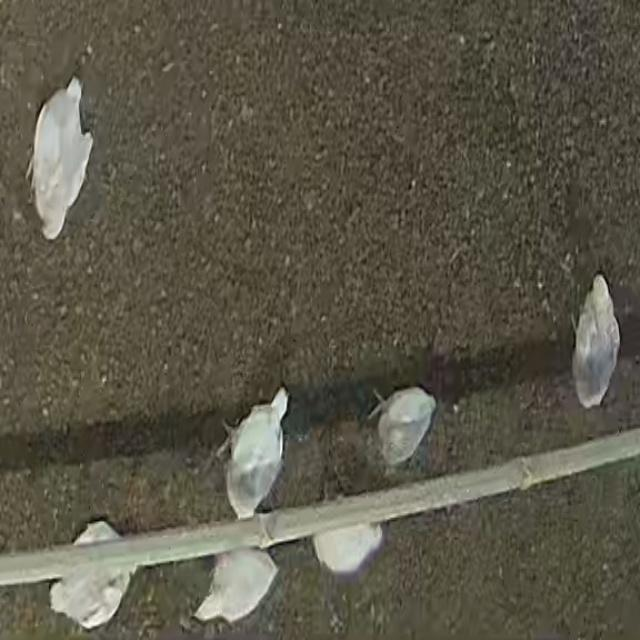chicken: (27, 77, 96, 245), (50, 517, 138, 627), (224, 389, 291, 521), (571, 269, 622, 410), (194, 548, 279, 626), (373, 382, 438, 466), (308, 521, 388, 571)
